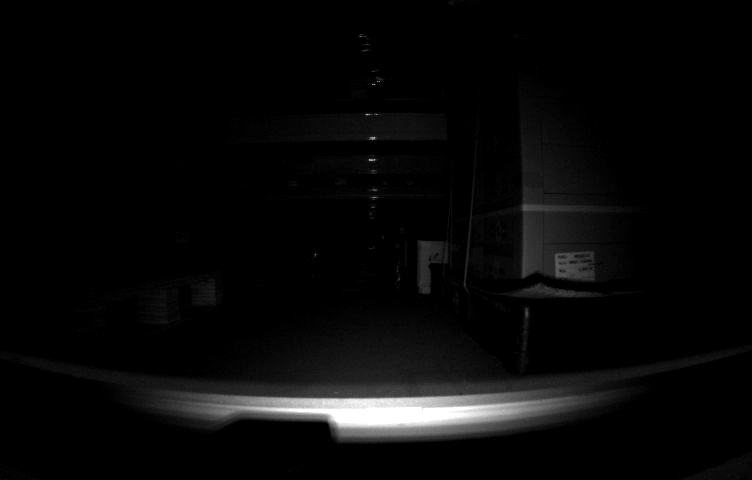True Barcode: (553, 253, 594, 284)
